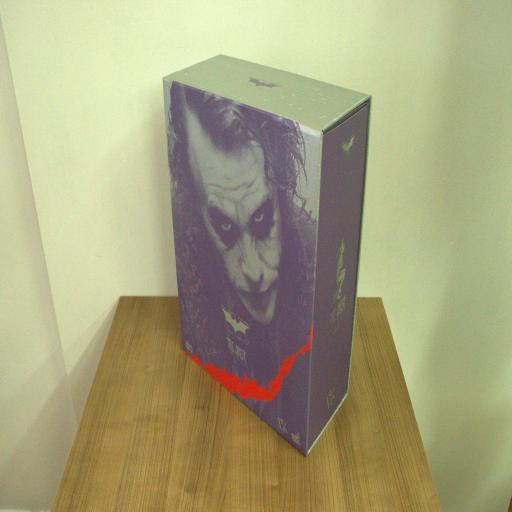Joker: (161, 50, 372, 457)
